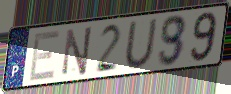2: (92, 23, 125, 75)
9: (156, 13, 189, 68), (189, 10, 220, 64)
E: (27, 28, 62, 84)
N: (61, 24, 94, 78)
U: (123, 16, 159, 70)
